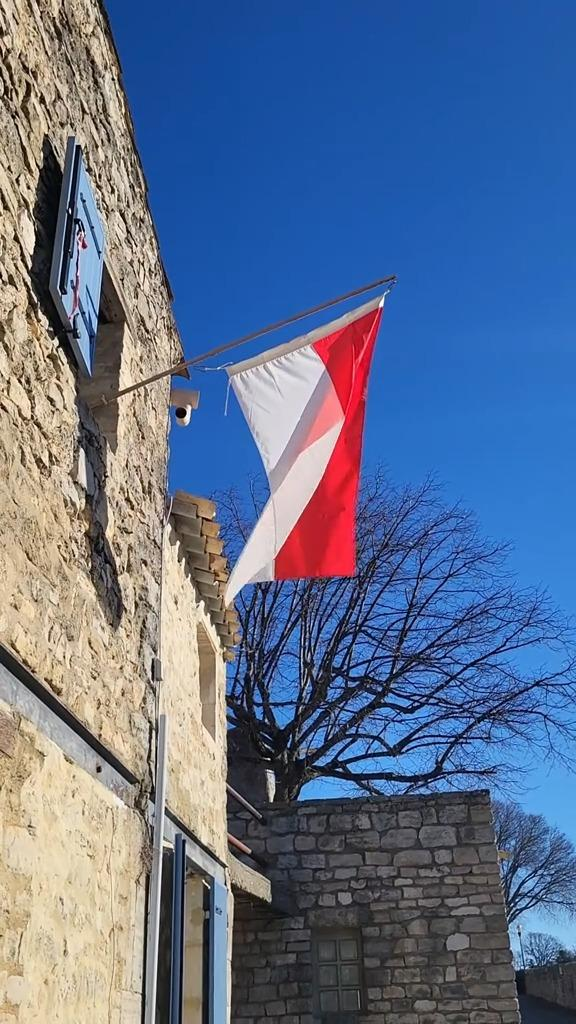Indonesia: (221, 298, 385, 595)
